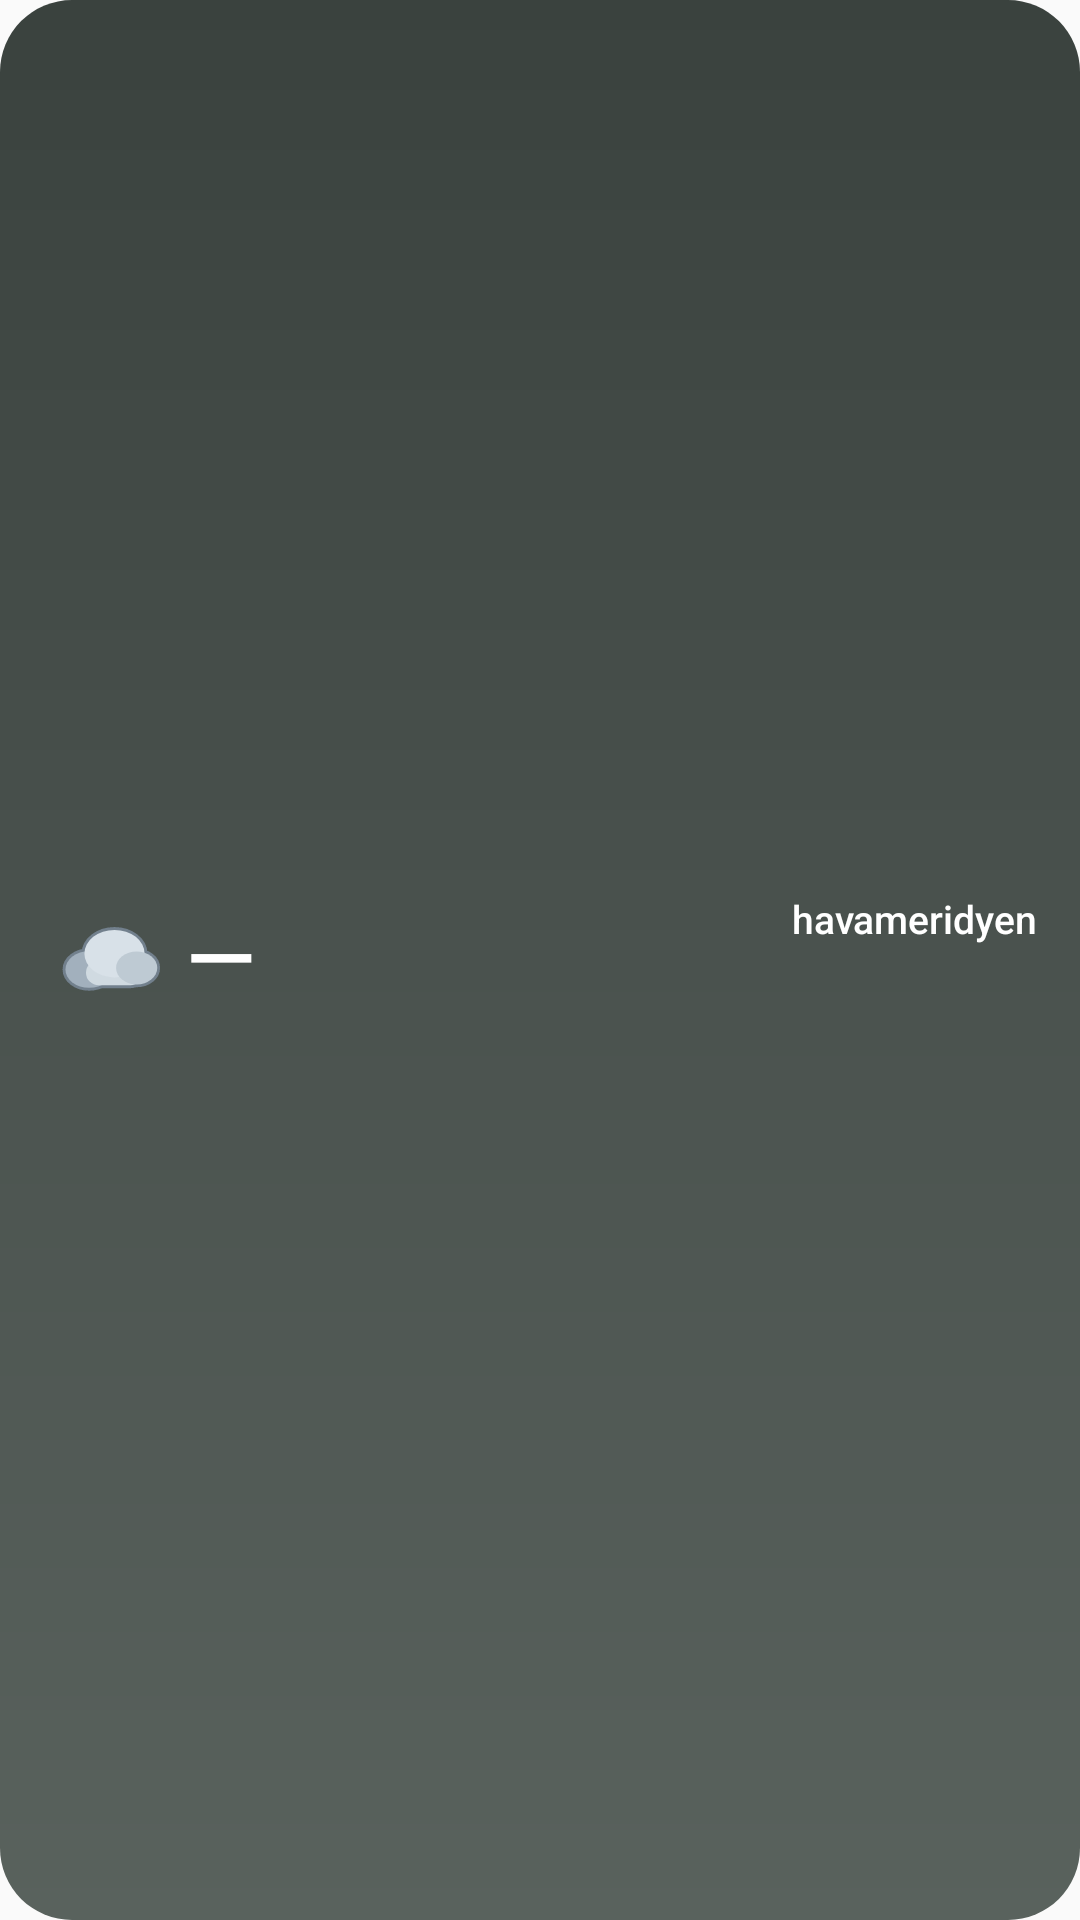

Icons on this 1080w x 1920h Android screen, each with its box as rect(x1, y1, x2, y2):
cloud: rect(62, 927, 160, 991)
